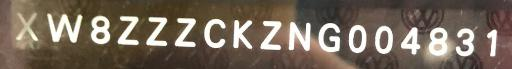letter: (42, 9, 86, 44), (11, 8, 41, 43), (114, 14, 142, 47), (316, 21, 344, 54), (201, 16, 227, 49), (286, 20, 312, 53), (398, 25, 424, 58), (173, 14, 197, 49), (230, 17, 254, 50), (145, 16, 169, 47), (259, 19, 283, 50), (427, 26, 451, 57), (89, 12, 111, 45), (372, 23, 394, 56), (346, 23, 368, 54), (454, 25, 476, 56), (484, 25, 500, 58)
